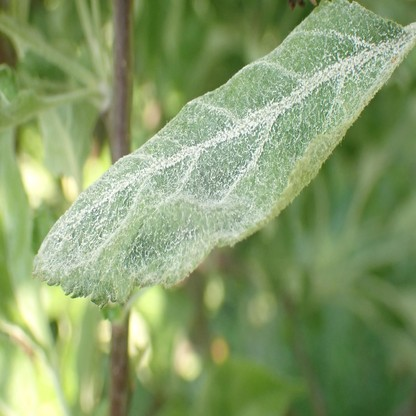powdery_mildew: (33, 0, 407, 310)
